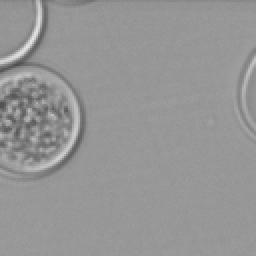picoshell: (0, 64, 82, 176), (234, 49, 256, 141)
